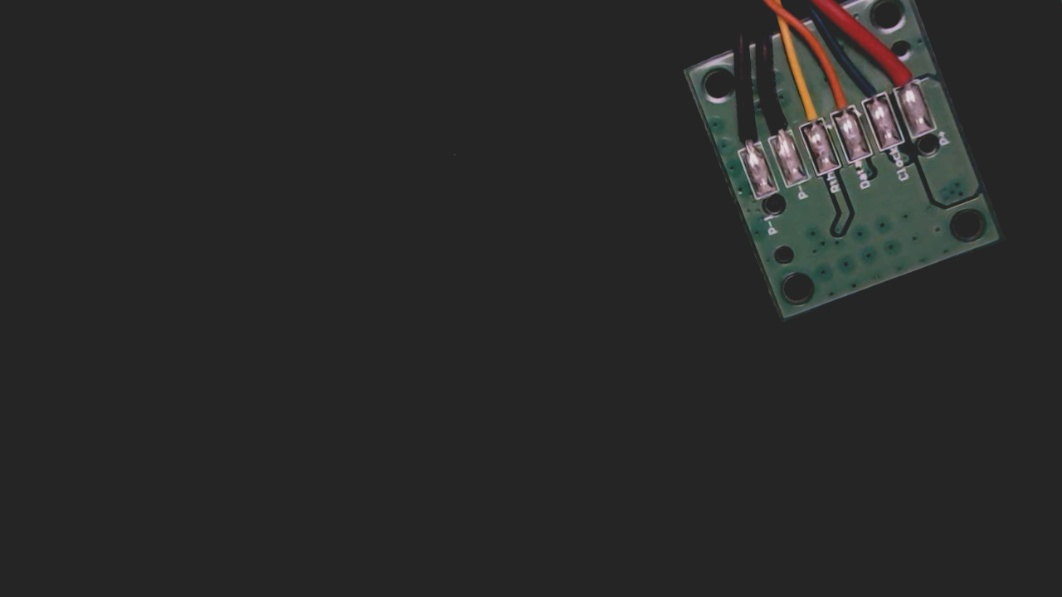Black: (755, 92, 797, 151)
Black1: (722, 101, 766, 163)
Green: (850, 60, 893, 115)
Orange: (820, 70, 861, 126)
Red: (878, 37, 925, 102)
Yellow: (784, 81, 828, 139)
